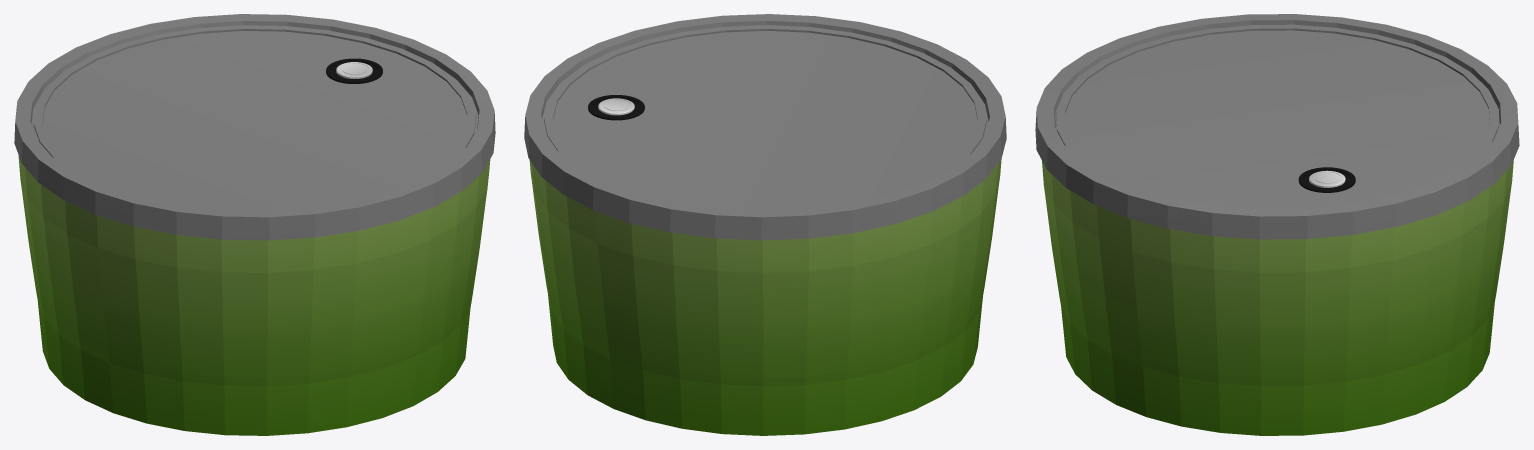
The model's file is Large Industrial Bucket Green.fbx.
3 renders of one model, left to right at view 1: azimuth 30°, elevation 25°; view 2: azimuth 150°, elevation 25°; view 3: azimuth 270°, elevation 25°, orthographic.
Visible parts, largest first — view 1: Large Industrial Bucket Green; view 2: Large Industrial Bucket Green; view 3: Large Industrial Bucket Green.
Boxes of the visible parts, <box> form: Large Industrial Bucket Green: <box>14,14,495,435</box>; Large Industrial Bucket Green: <box>524,14,1006,435</box>; Large Industrial Bucket Green: <box>1035,14,1519,435</box>.
Size of the model in its own units: 153 by 291 by 289.
1 material, 1 textured.
